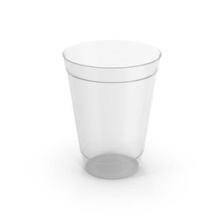glass: (58, 30, 172, 187)
